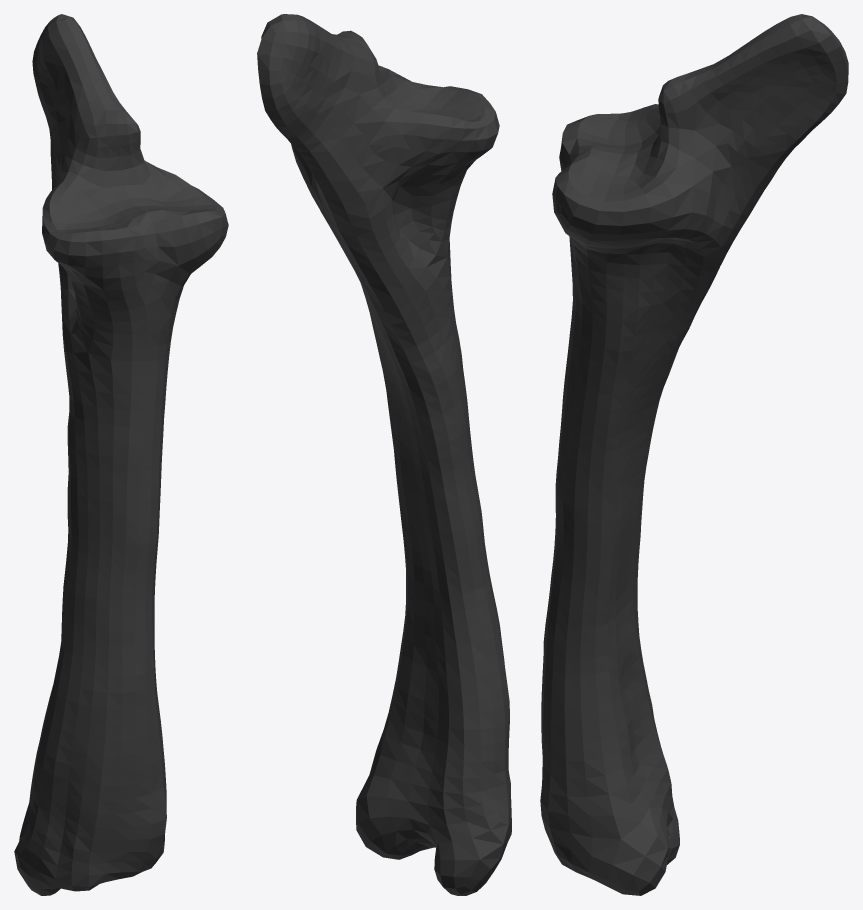
Rendered from Radius_L.glb.
The picture shows the model from 3 angles, left to right: view 1: azimuth 30°, elevation 25°; view 2: azimuth 150°, elevation 25°; view 3: azimuth 270°, elevation 25°; orthographic projection. The views are drawn at different scales.
Parts seen in each view (by area): view 1: Radius_L; view 2: Radius_L; view 3: Radius_L.
Part boxes in pixels (<box>): Radius_L: <box>14,14,228,895</box>; Radius_L: <box>257,14,511,895</box>; Radius_L: <box>540,14,848,895</box>.
Size of the model in its own units: 0.1537 by 0.6245 by 0.1936.
1 material, 1 textured.
